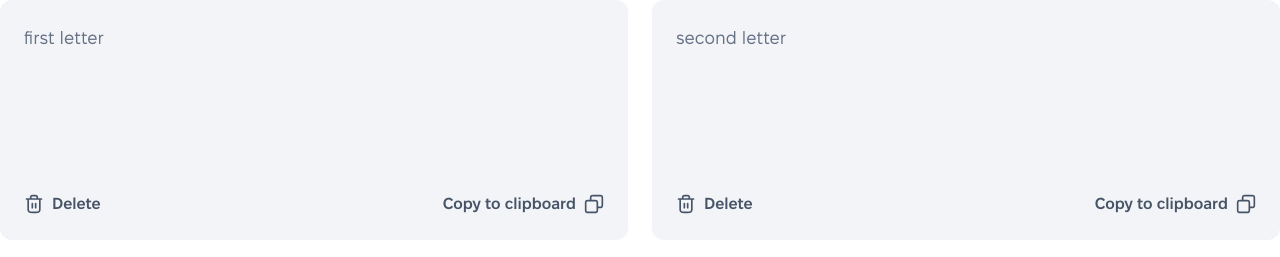
Test: ApplicationsGrid › removes an application from the grid when delete is clicked
The width and height of the screenshot is (1280, 257).
expect the text "first letter" is shown: met, box [24,28,104,47]
Click the button with aria-label "Delete application": (62, 204) [24,192,101,216]
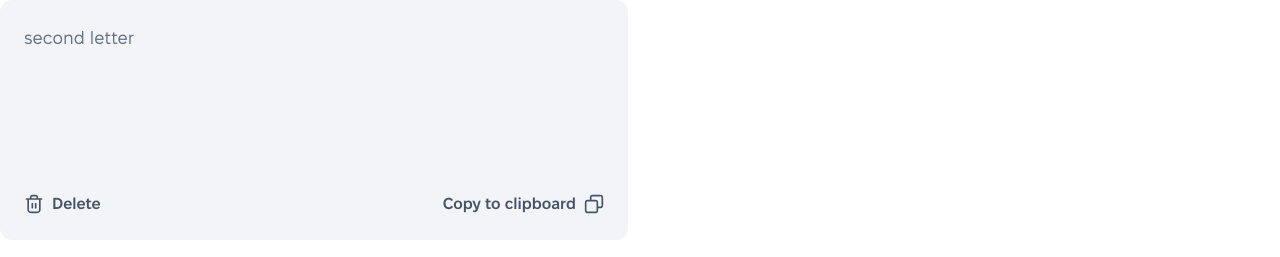
expect the number of list items is 1: met, box [0,0,628,240]
